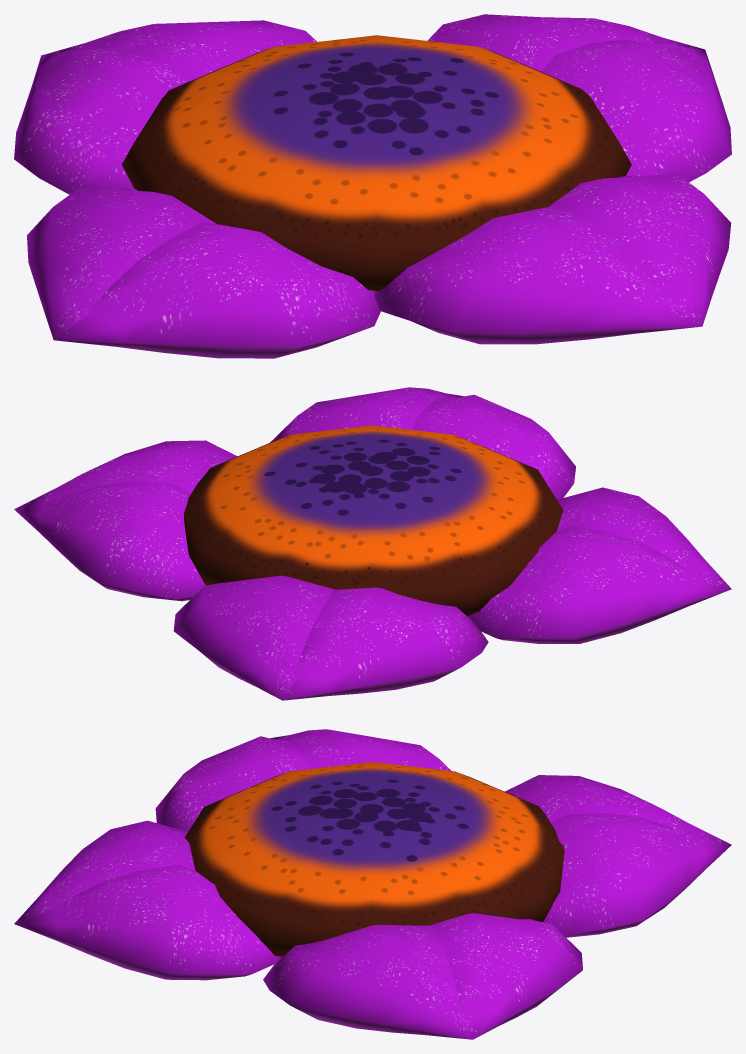
File: FlowerBounce.fbx
The picture shows the model from 3 angles, top to bottom: view 1: azimuth 30°, elevation 25°; view 2: azimuth 150°, elevation 25°; view 3: azimuth 270°, elevation 25°; orthographic projection. The views are drawn at different scales.
Visible parts, largest first — view 1: polySurface10, pSphere1; view 2: polySurface10, pSphere1; view 3: polySurface10, pSphere1.
Boxes of the visible parts, x1,y1,x2,y2 form: polySurface10: [14, 14, 731, 358]; pSphere1: [121, 35, 631, 290]; polySurface10: [14, 387, 731, 700]; pSphere1: [183, 425, 563, 616]; polySurface10: [14, 729, 731, 1039]; pSphere1: [185, 762, 564, 956].
Bounding box in the file's own units: 213 × 36.83 × 212.
